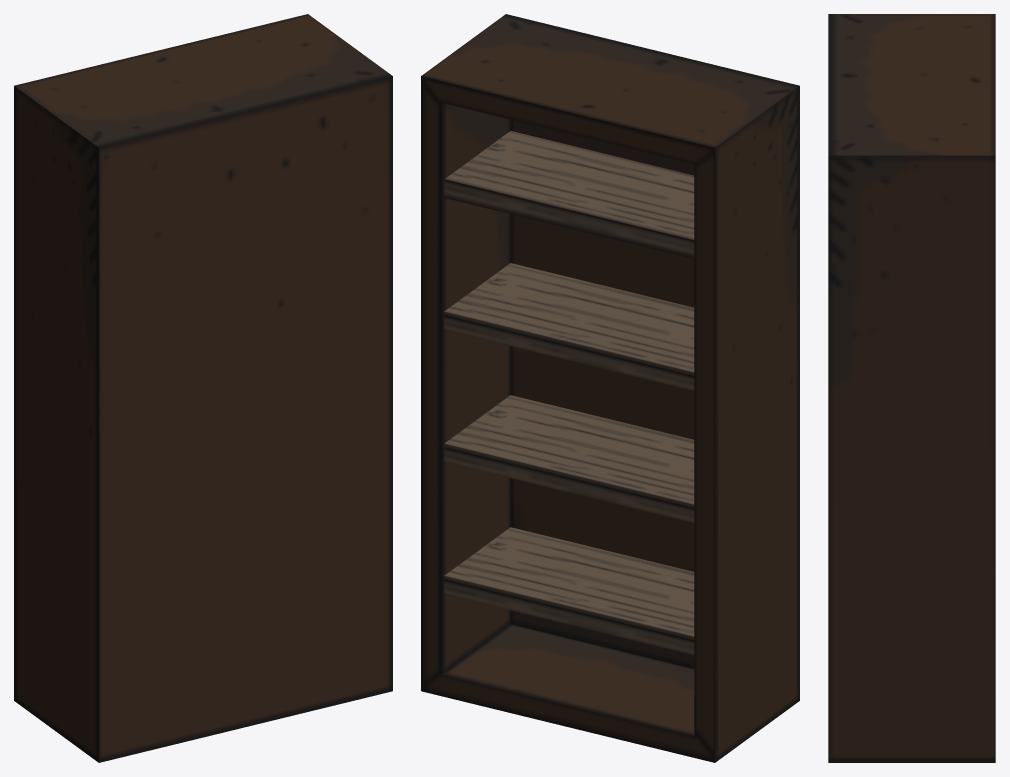
Rendered from Shelf.fbx.
The picture shows the model from 3 angles, left to right: view 1: azimuth 30°, elevation 25°; view 2: azimuth 150°, elevation 25°; view 3: azimuth 270°, elevation 25°; orthographic projection.
Parts seen in each view (by area): view 1: Shelf_Mesh; view 2: Shelf_Mesh; view 3: Shelf_Mesh.
Boxes of the visible parts, box(x1,y1,x2,y2) form: Shelf_Mesh: box(14, 14, 392, 762); Shelf_Mesh: box(421, 14, 799, 762); Shelf_Mesh: box(828, 14, 995, 762).
Size of the model in its own units: 1 by 2 by 0.5.
1 material, 1 textured.
